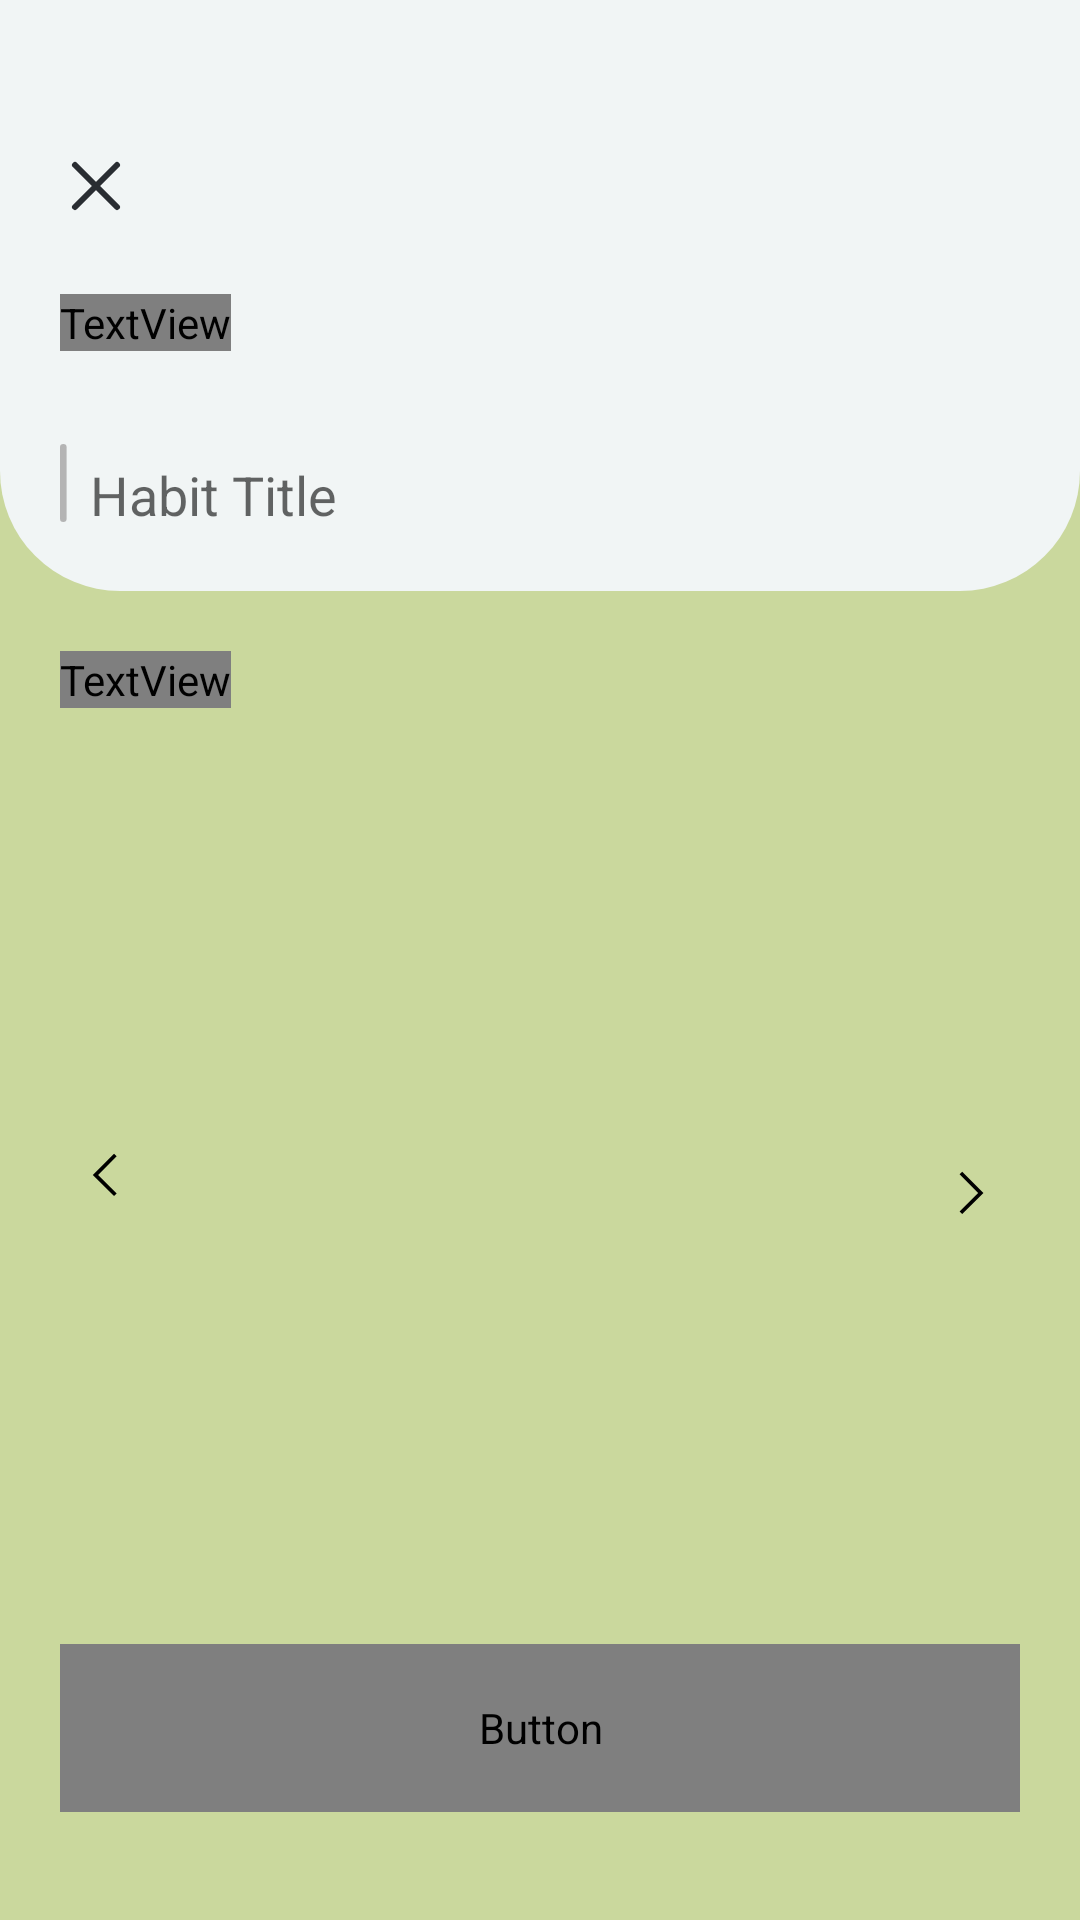

Icon click points for this 1080 x 1920 phone screenshot, format point (x, y):
close: point (96, 185)
left: point (105, 1175)
right: point (971, 1193)
